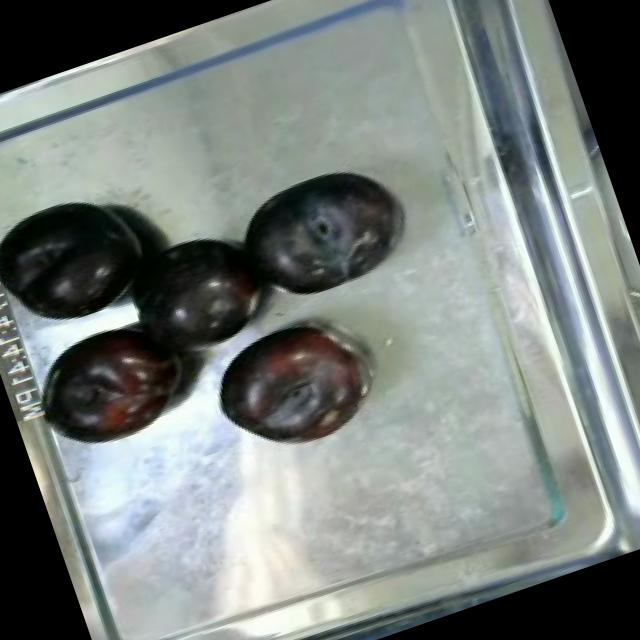Fruit: (191, 293, 397, 471), (216, 146, 418, 318), (22, 296, 212, 468), (106, 212, 286, 374), (0, 173, 167, 345)
